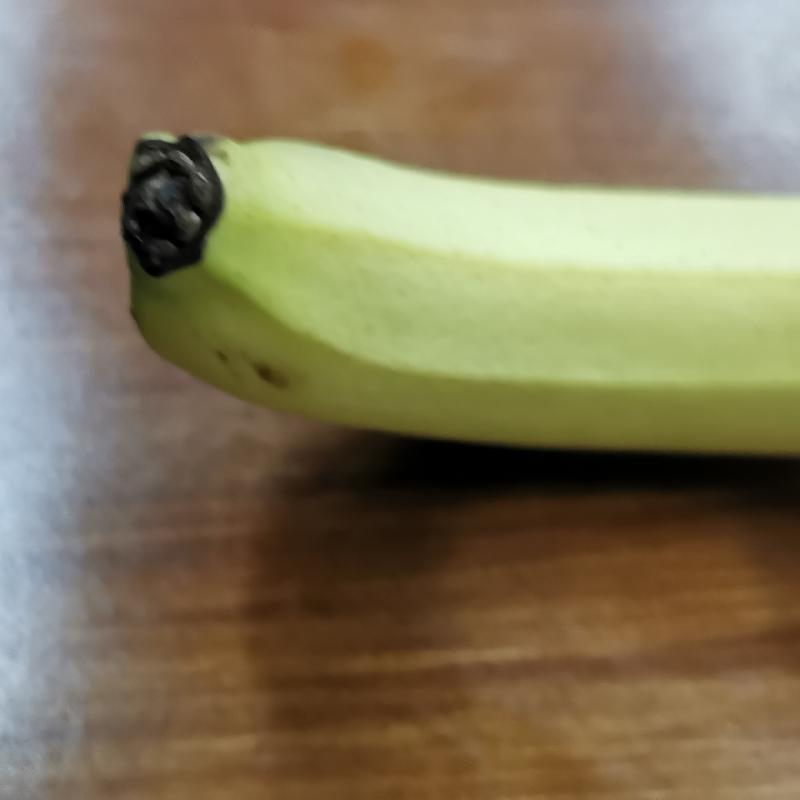bananas: (121, 121, 800, 462)
